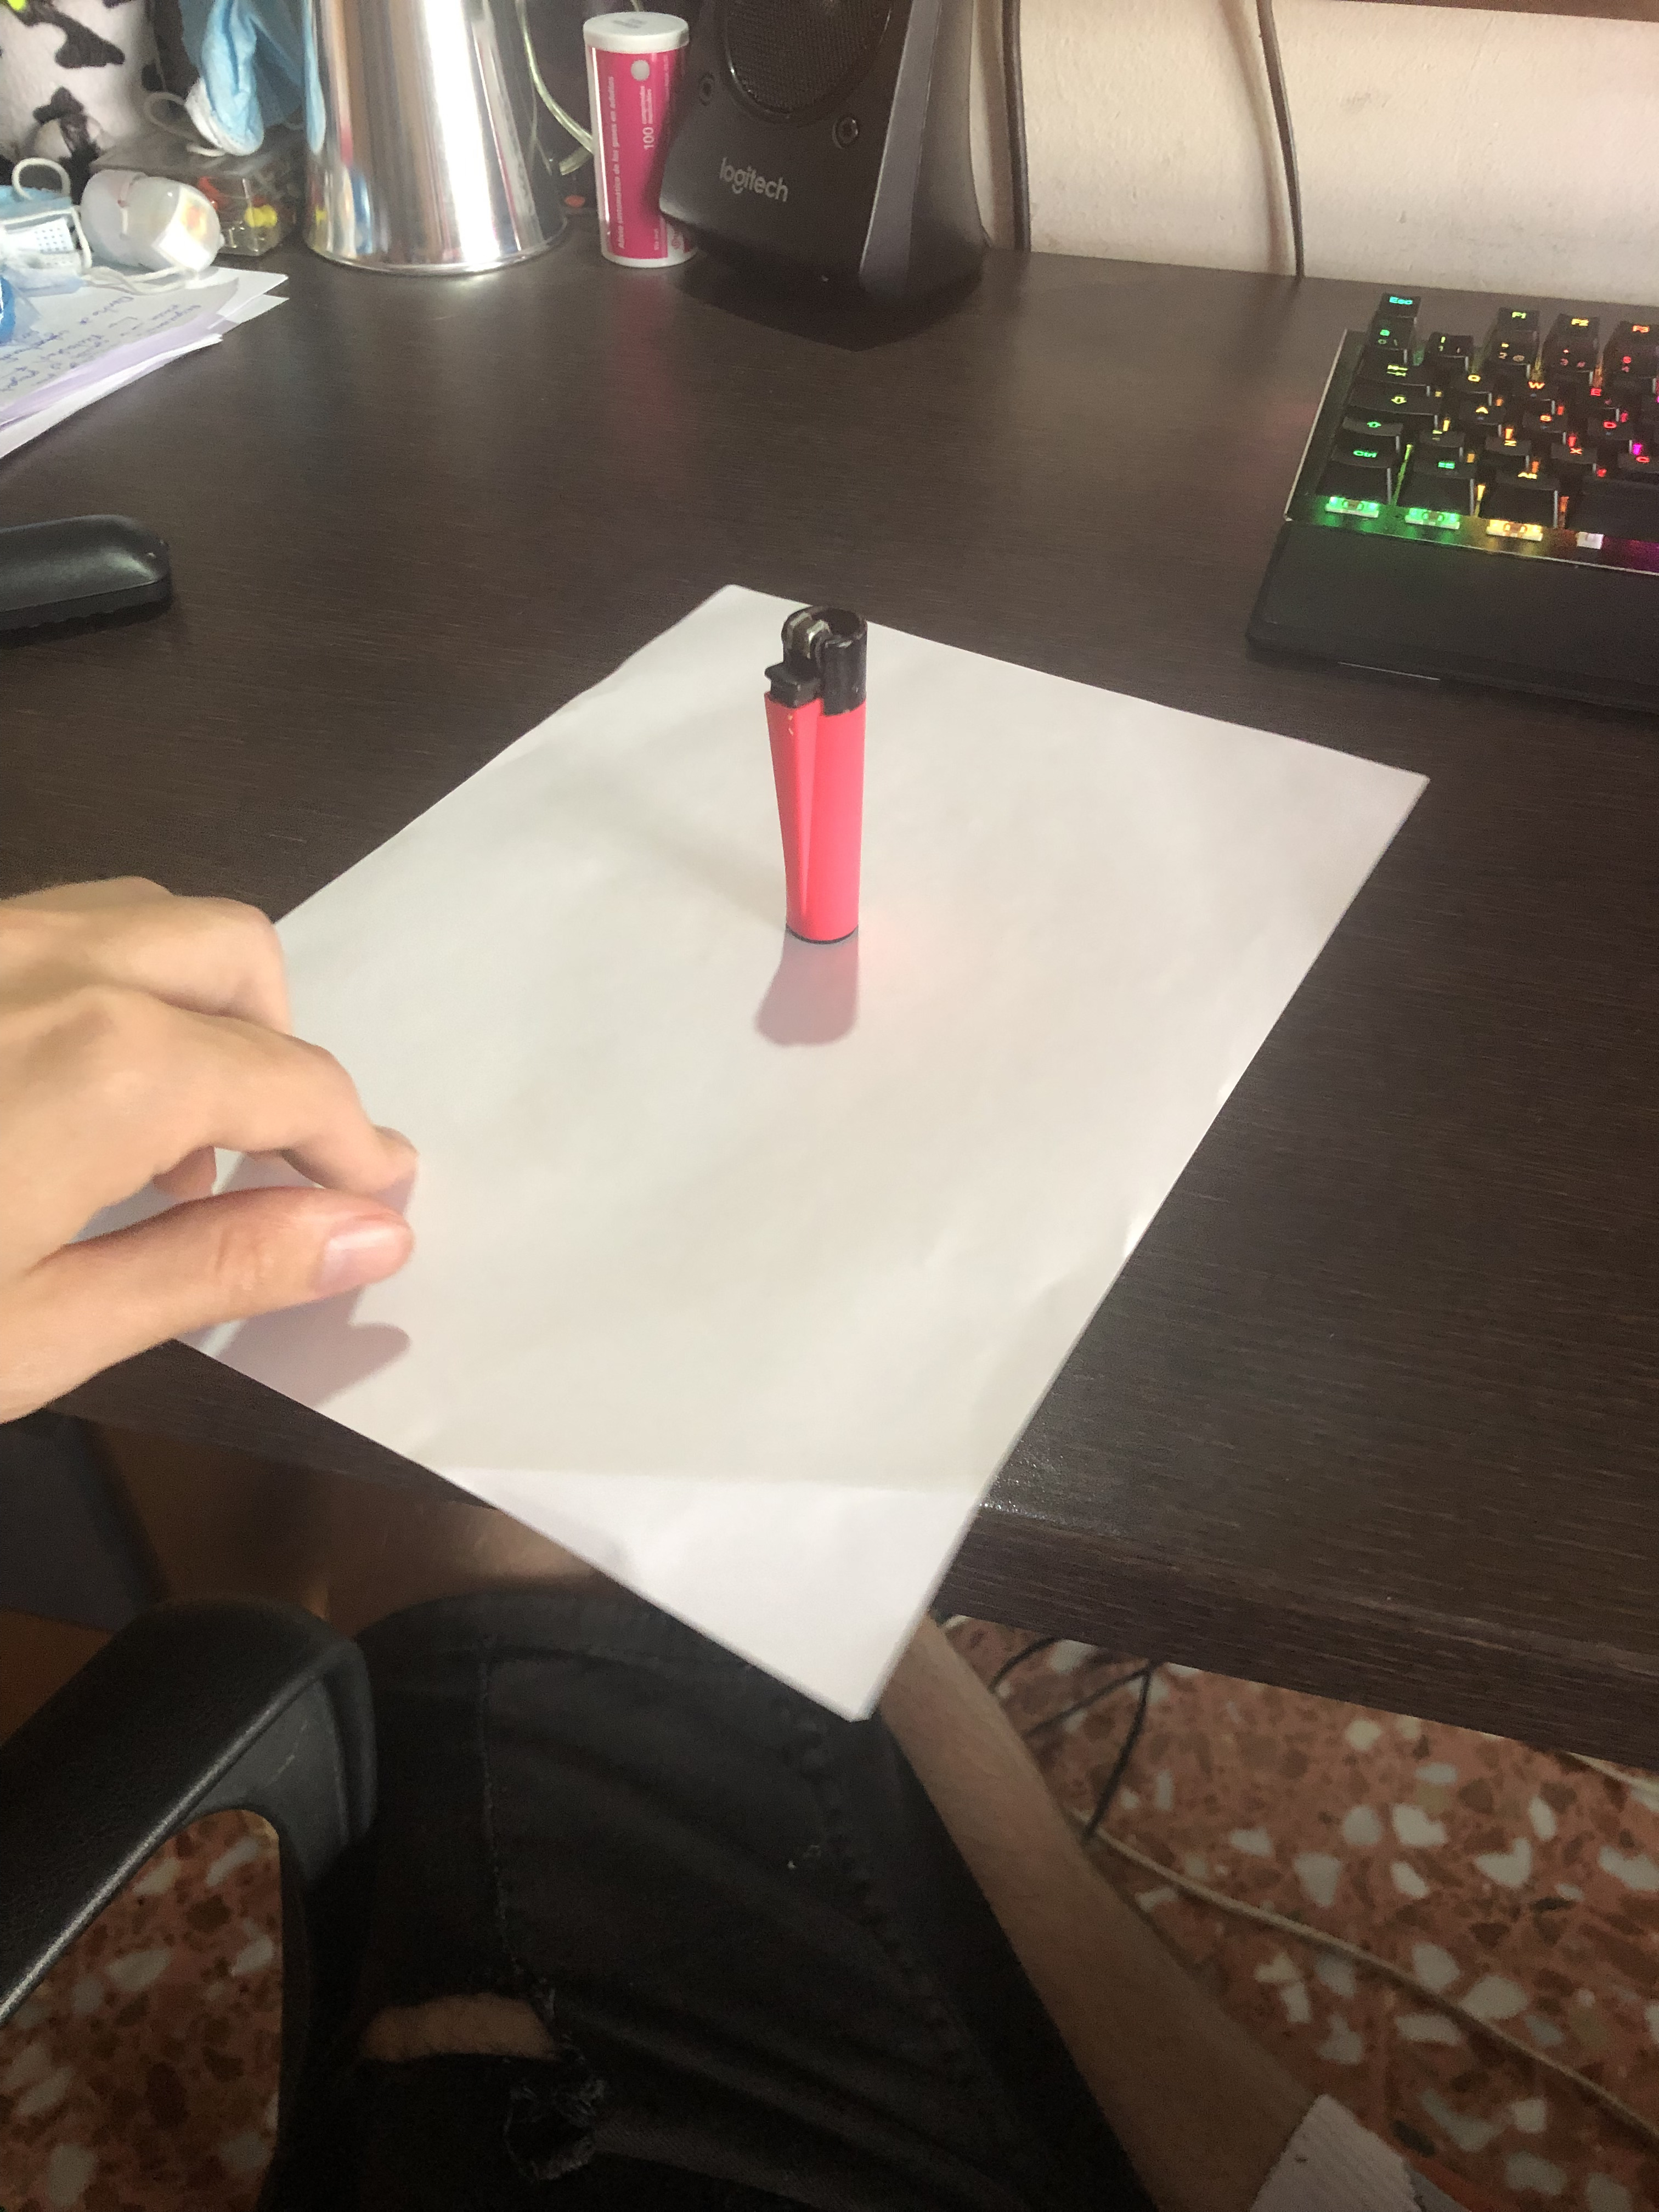Mechero: (739, 583, 884, 953)
